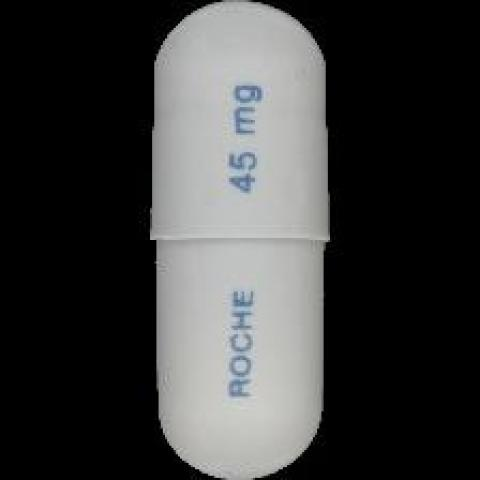Pill: (107, 0, 369, 478)
